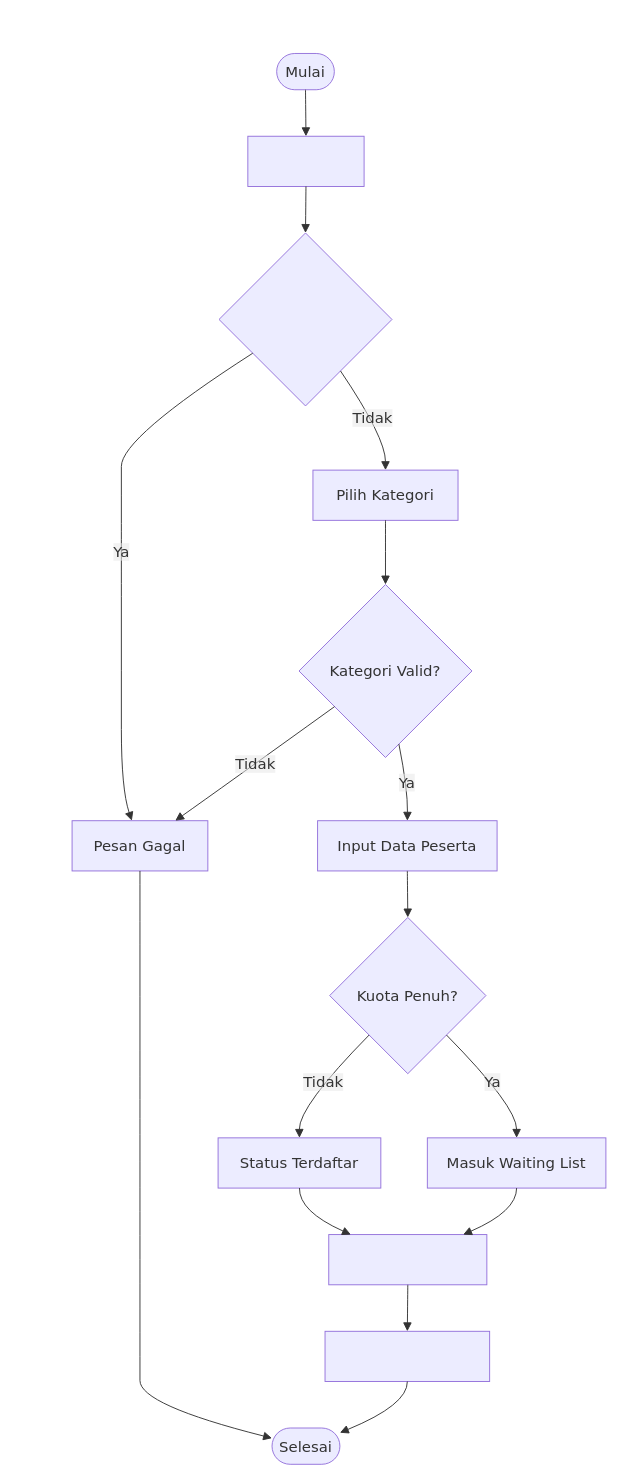
The diagram is 622 pixels wide and 1481 high, and some of its shapes have lost their labels. The shapes that lost their labels are listed below. From the top down, each one's centre as x and y in pixels, then its label:
the point at 305,160: Input BIB
the point at 305,319: BIB Sudah Ada?
the point at 407,1259: Simpan Peserta
the point at 407,1356: Simpan Kategori
